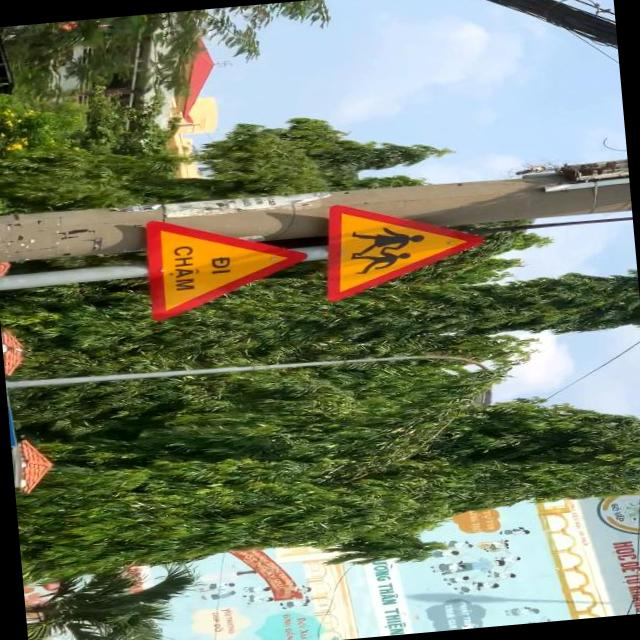W-225: (320, 190, 489, 300)
W-245a: (142, 206, 310, 324)
